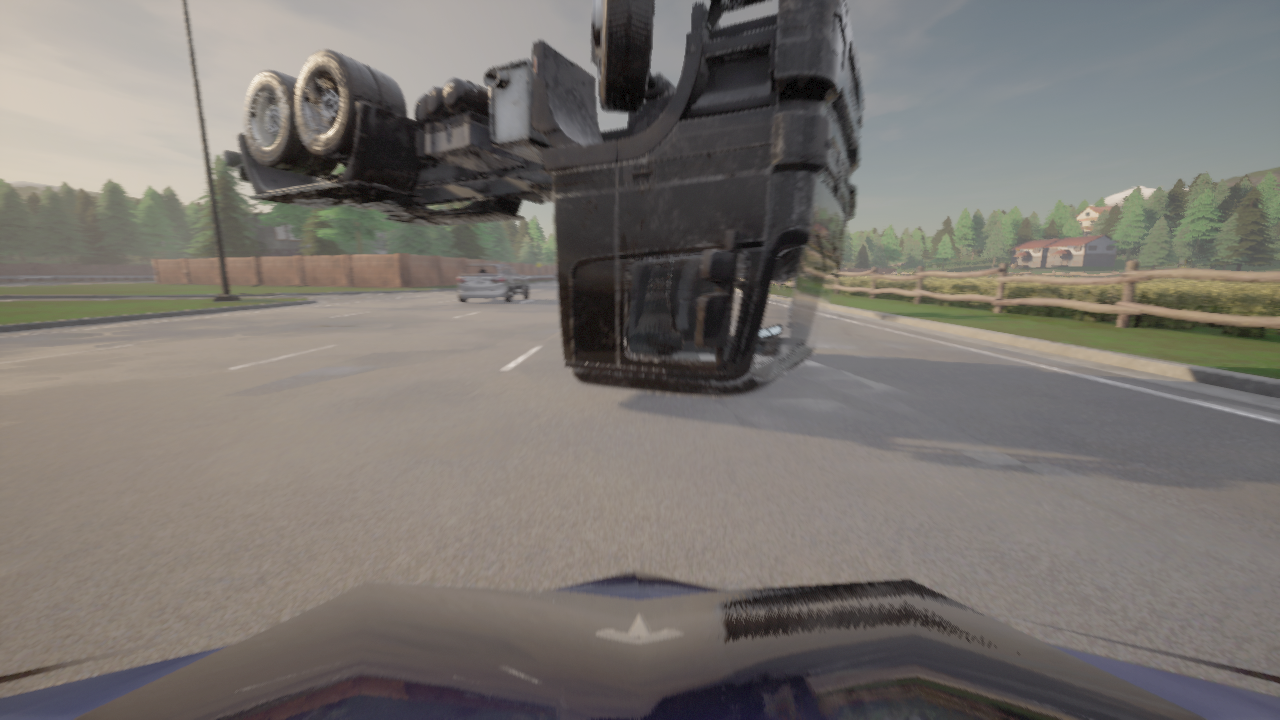cyclist: (223, 0, 863, 397), (0, 569, 1279, 719), (457, 262, 529, 302)
